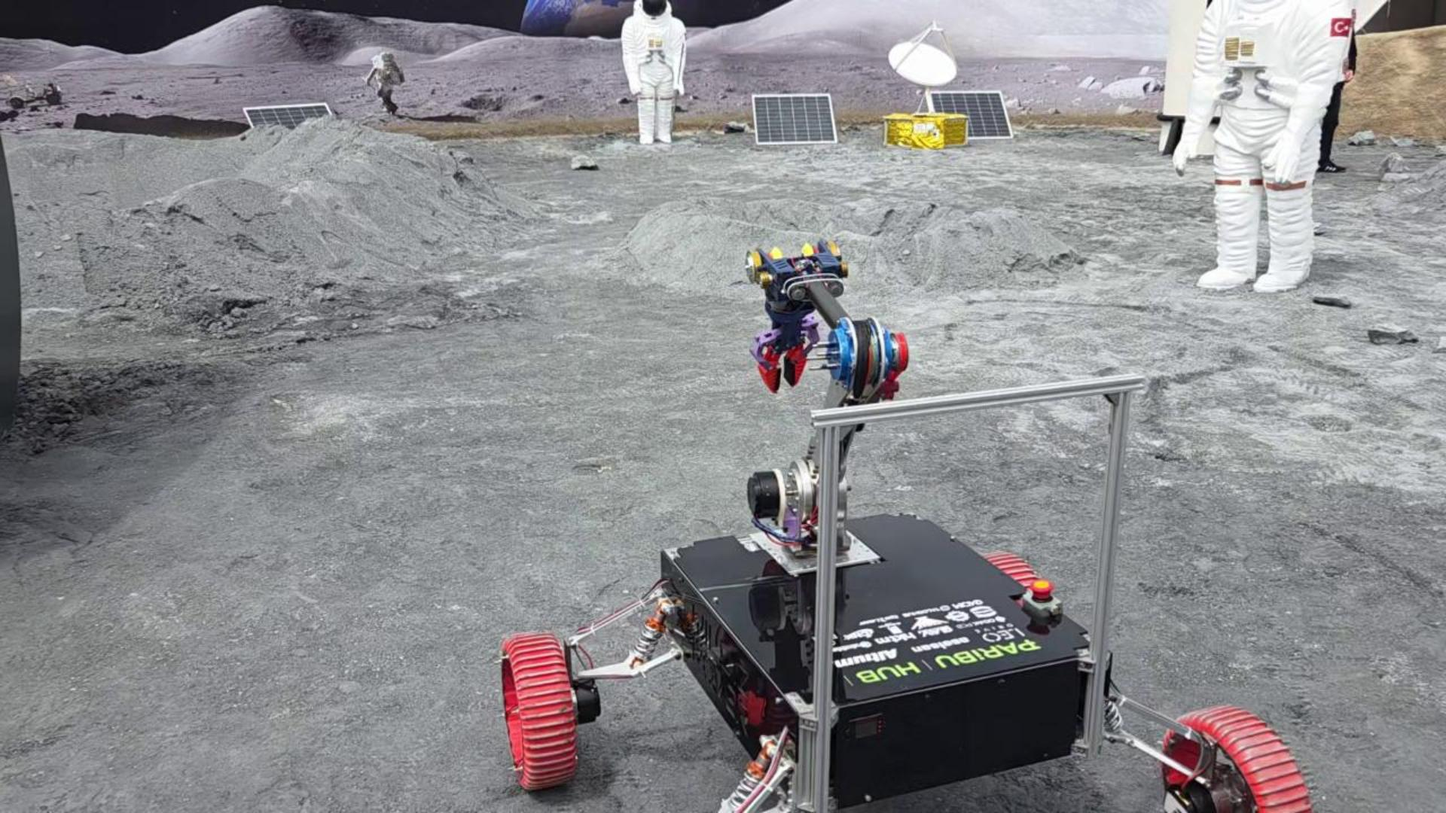rock: (1367, 326, 1418, 344), (570, 155, 598, 169), (724, 121, 750, 133)
